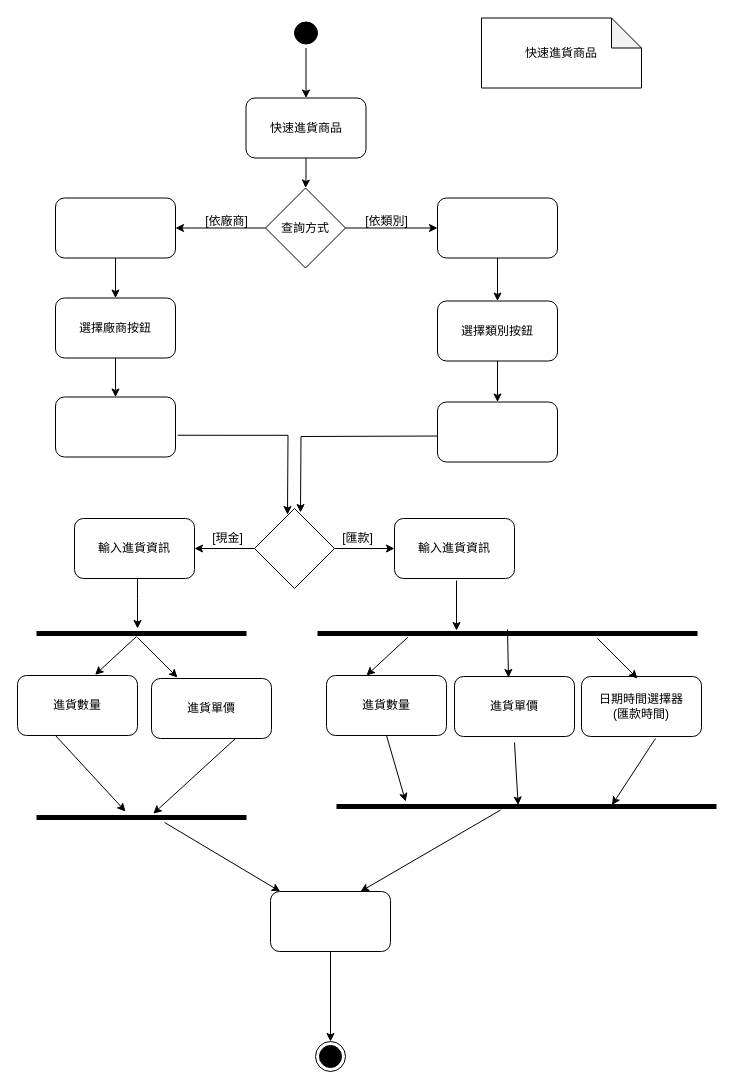
Some shapes in this 736 by 1089 pixel diagram are drawn without their labels. The shapes that lost their labels are listed below. From the top down, each one's box as (x1, y1, x2, y2) in pixels, then its label:
(54, 197, 176, 258): 所有廠商名
(436, 197, 558, 258): 所有類別小按鈕
(54, 396, 176, 457): 選擇此廠商商品
(436, 401, 558, 462): 選擇此類別商品
(254, 508, 334, 588): 付款方式
(270, 890, 390, 952): 成功新增進貨資訊
